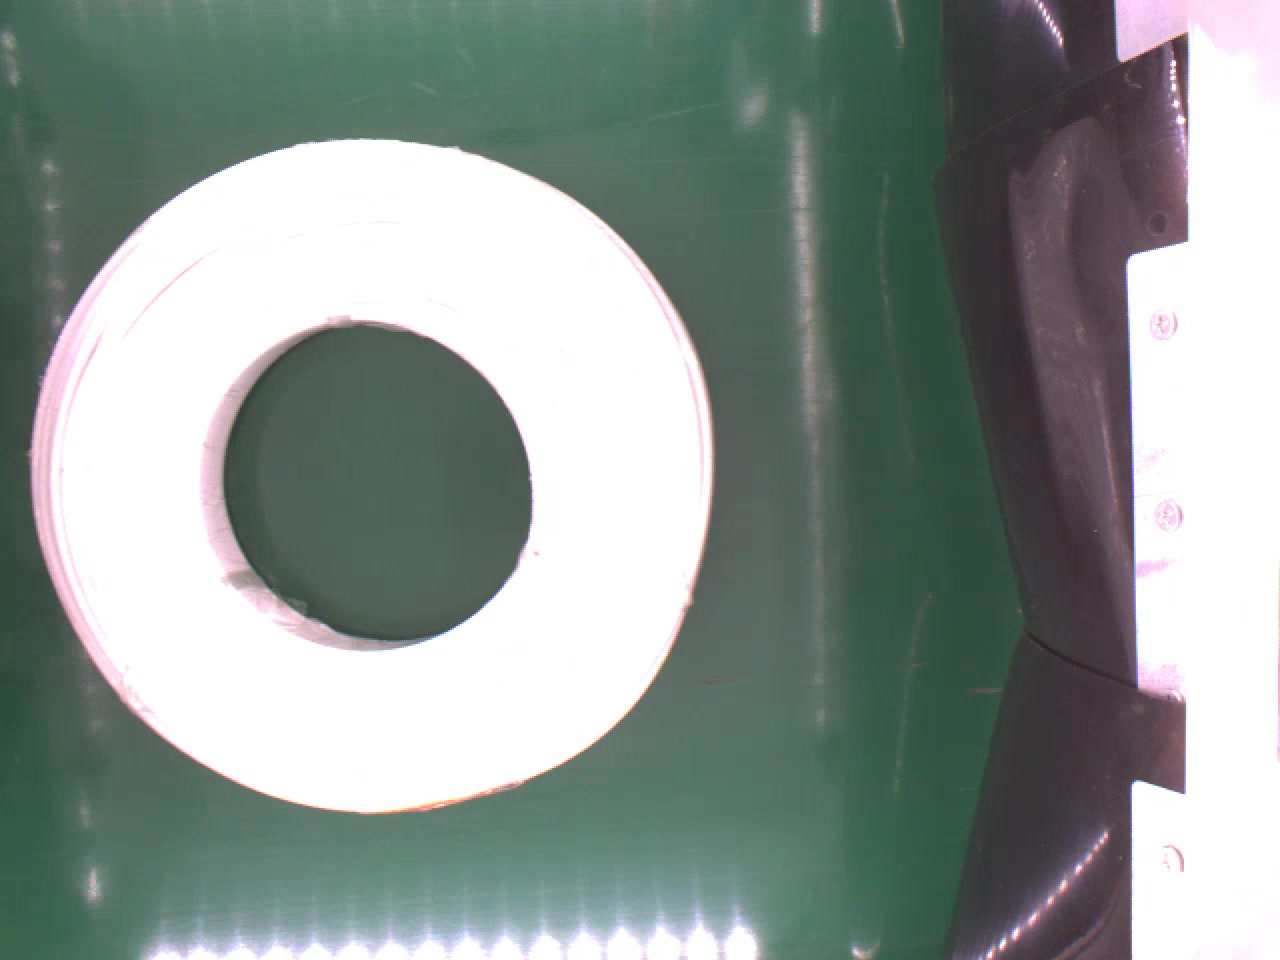white: (25, 131, 718, 815)
